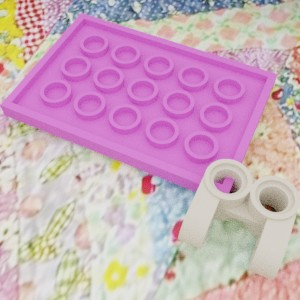lego: (0, 12, 277, 203), (178, 158, 300, 280)
